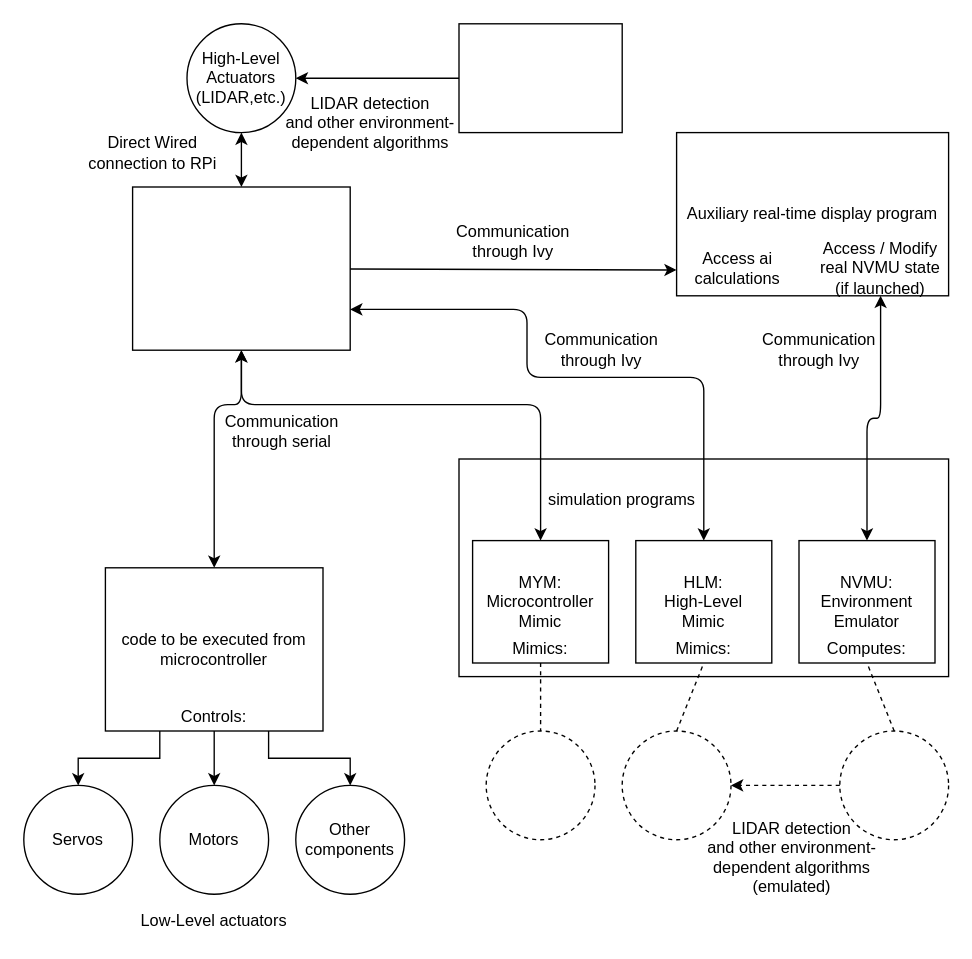
This 972x959 diagram has some shape labels left out. The centre of each missing label's shape, as x and y in pixels:
AI program to be executed from Raspberry Pi: point (240, 268)
Fake Environment (obstacles, robots): point (893, 785)
Fake High-Level Actuators: point (676, 785)
Fake Low-Level Actuators: point (540, 785)
Real-life Environment containing obstacles and others: point (540, 77)
